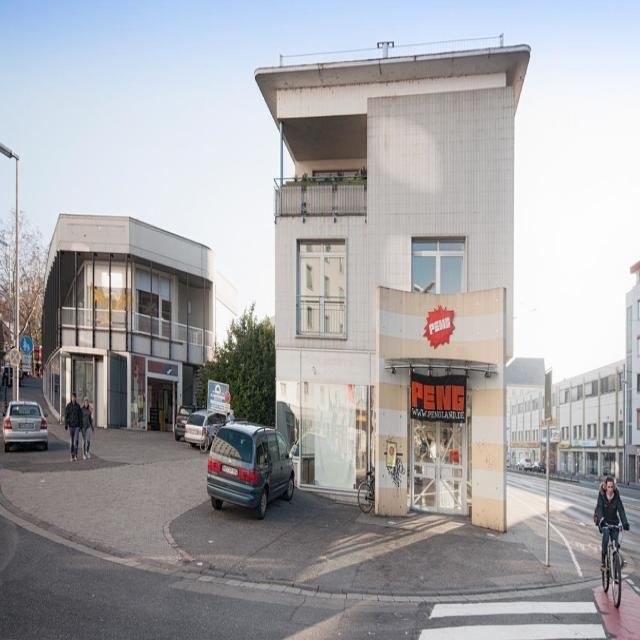car: (205, 415, 296, 521), (0, 397, 48, 448)
